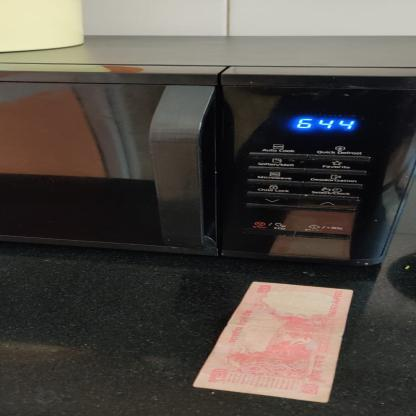Old20Back: (194, 281, 353, 403)
